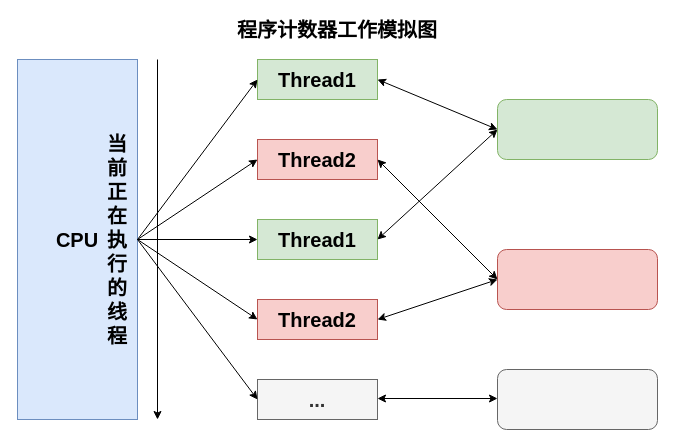
Image size: 675x447. Some labels were removed from this diagram. Here are the shapes that lost their labels. From the top down, the centre of each, then its label:
(x=577, y=129): Thread1计数器
(x=577, y=279): Thread2计数器
(x=577, y=399): ThreadN计数器
